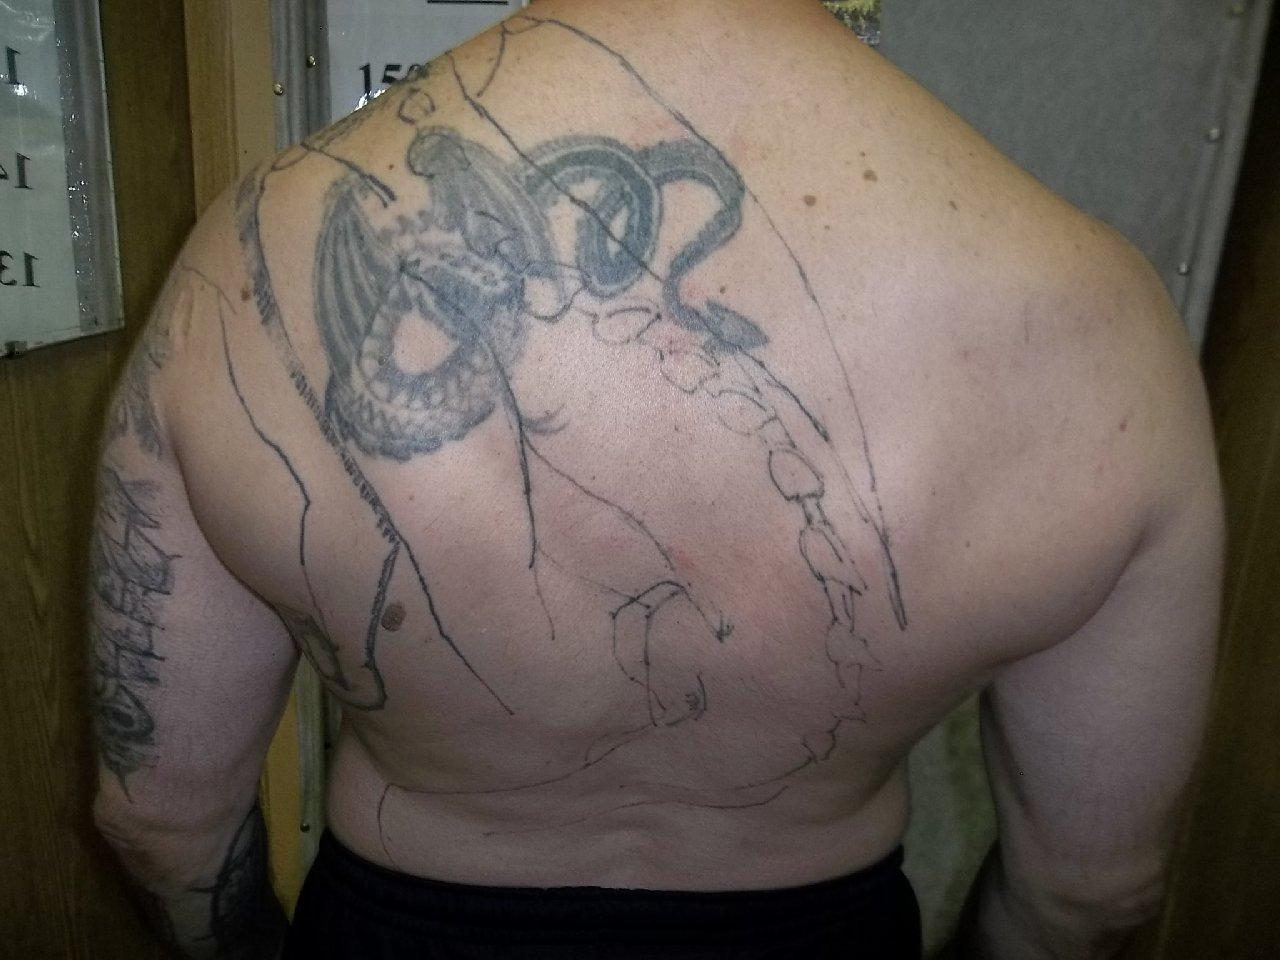tatu6_drakon: (270, 149, 887, 489)
